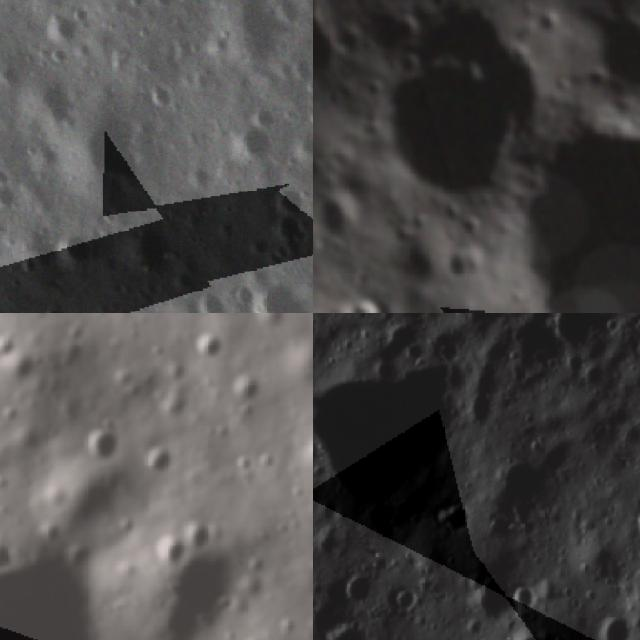crater: (474, 59, 640, 313), (346, 30, 548, 217), (313, 357, 464, 509), (38, 86, 177, 222), (151, 541, 313, 640), (178, 0, 313, 99), (0, 539, 102, 640), (114, 214, 188, 288), (588, 0, 640, 104), (17, 70, 88, 141), (313, 179, 375, 248), (220, 118, 283, 182), (29, 0, 94, 62), (43, 221, 103, 281), (467, 563, 518, 627), (437, 237, 497, 289), (262, 203, 313, 262), (372, 314, 427, 361), (540, 313, 599, 353), (141, 73, 189, 121), (267, 174, 313, 223), (529, 0, 574, 45), (336, 564, 381, 606), (433, 496, 482, 533), (83, 418, 120, 465), (340, 285, 398, 313), (313, 614, 372, 640), (143, 433, 174, 482), (589, 609, 635, 640), (193, 324, 226, 366), (508, 575, 540, 617), (186, 284, 232, 313), (232, 369, 267, 406), (187, 516, 221, 552), (291, 341, 313, 395), (131, 0, 189, 20), (154, 534, 191, 565), (388, 584, 419, 616), (303, 125, 313, 223), (510, 622, 551, 640), (255, 313, 292, 331), (0, 535, 15, 574), (630, 507, 640, 552), (424, 0, 458, 12)
